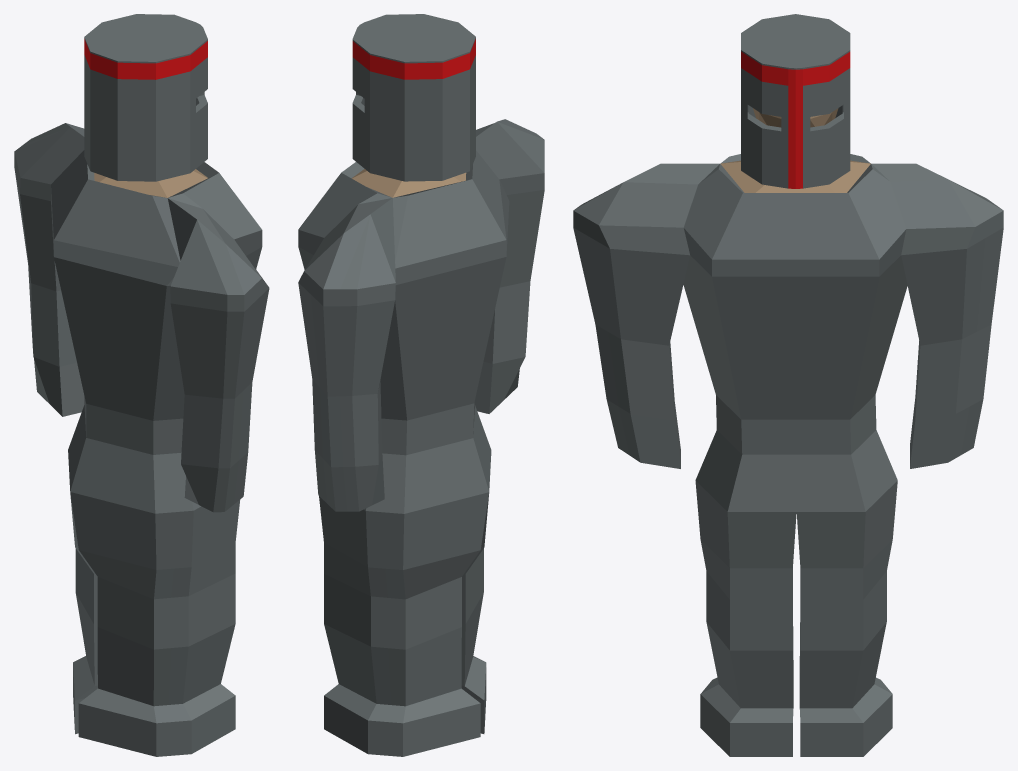
Rendered from KnightPlayer.fbx.
The picture shows the model from 3 angles, left to right: view 1: azimuth 30°, elevation 25°; view 2: azimuth 150°, elevation 25°; view 3: azimuth 270°, elevation 25°; orthographic projection.
Parts seen in each view (by area): view 1: Cylinder.001; view 2: Cylinder.001; view 3: Cylinder.001.
Part boxes in pixels (x1,y1,x2,y2): Cylinder.001: (14,14,269,756); Cylinder.001: (298,14,544,756); Cylinder.001: (573,14,1003,756).
Size of the model in its own units: 299 by 1167 by 662.
